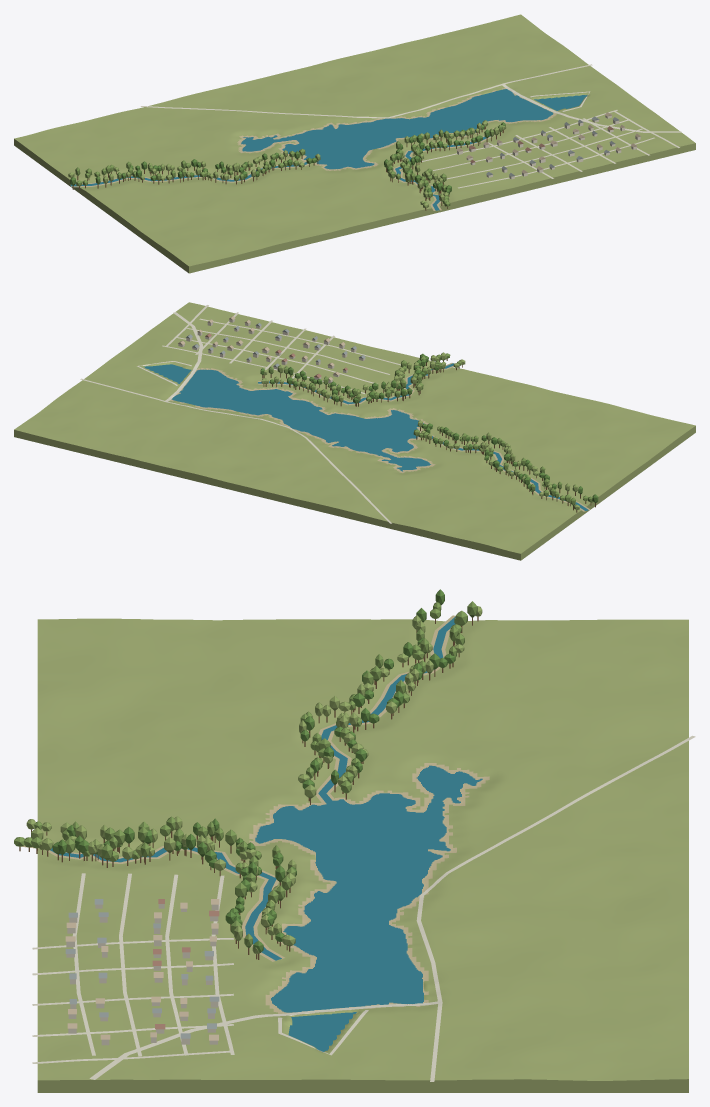
Rendered from lake.glb.
The picture shows the model from 3 angles, top to bottom: view 1: azimuth 30°, elevation 25°; view 2: azimuth 150°, elevation 25°; view 3: azimuth 270°, elevation 25°; orthographic projection. The views are drawn at different scales.
Parts seen in each view (by area): view 1: Terrain • subtle random elevation, Eastern pond, Terrain sides, Eastern causeway, Riverbank tree canopy.002, Riverbank tree canopy, Riverbank tree canopy.001, Shoreline • narrow sandy margin, Village house, Riverbank tree trunk; view 2: Terrain • subtle random elevation, Eastern pond, Terrain sides, Eastern causeway, Riverbank tree canopy.002, Riverbank tree canopy.001, Riverbank tree canopy, Shoreline • narrow sandy margin, Village house, Riverbank tree trunk; view 3: Terrain • subtle random elevation, Eastern pond, Terrain sides, Eastern causeway, Riverbank tree canopy.002, Riverbank tree canopy, Riverbank tree canopy.001, Shoreline • narrow sandy margin, Village house, Riverbank tree trunk, House roof, House roof.004.
Part boxes in pixels (x1,y1,x2,y2): Terrain • subtle random elevation: [14, 14, 695, 266]; Eastern pond: [70, 89, 587, 210]; Terrain sides: [14, 139, 695, 273]; Eastern causeway: [140, 64, 681, 188]; Riverbank tree canopy.002: [75, 124, 502, 206]; Riverbank tree canopy: [68, 120, 506, 208]; Riverbank tree canopy.001: [70, 122, 505, 194]; Shoreline • narrow sandy margin: [71, 88, 554, 210]; Village house: [457, 115, 640, 179]; Riverbank tree trunk: [72, 127, 503, 210]; Terrain • subtle random elevation: [14, 302, 695, 553]; Eastern pond: [144, 363, 588, 510]; Terrain sides: [14, 426, 695, 560]; Eastern causeway: [80, 305, 400, 523]; Riverbank tree canopy.002: [268, 353, 593, 505]; Riverbank tree canopy.001: [260, 353, 598, 502]; Riverbank tree canopy: [261, 352, 579, 509]; Shoreline • narrow sandy margin: [171, 363, 590, 511]; Village house: [178, 319, 365, 383]; Riverbank tree trunk: [262, 358, 595, 512]; Terrain • subtle random elevation: [37, 618, 688, 1080]; Eastern pond: [50, 616, 482, 1051]; Terrain sides: [37, 1079, 688, 1092]; Eastern causeway: [32, 735, 695, 1081]; Riverbank tree canopy.002: [14, 601, 477, 948]; Riverbank tree canopy: [26, 606, 482, 954]; Riverbank tree canopy.001: [52, 589, 455, 953]; Shoreline • narrow sandy margin: [22, 615, 484, 1013]; Village house: [66, 904, 218, 1045]; Riverbank tree trunk: [19, 611, 478, 959]; House roof: [65, 899, 219, 1040]; House roof.004: [65, 899, 219, 1038].
Bounding box in the file's own units: 109 × 3.96 × 66.37.
